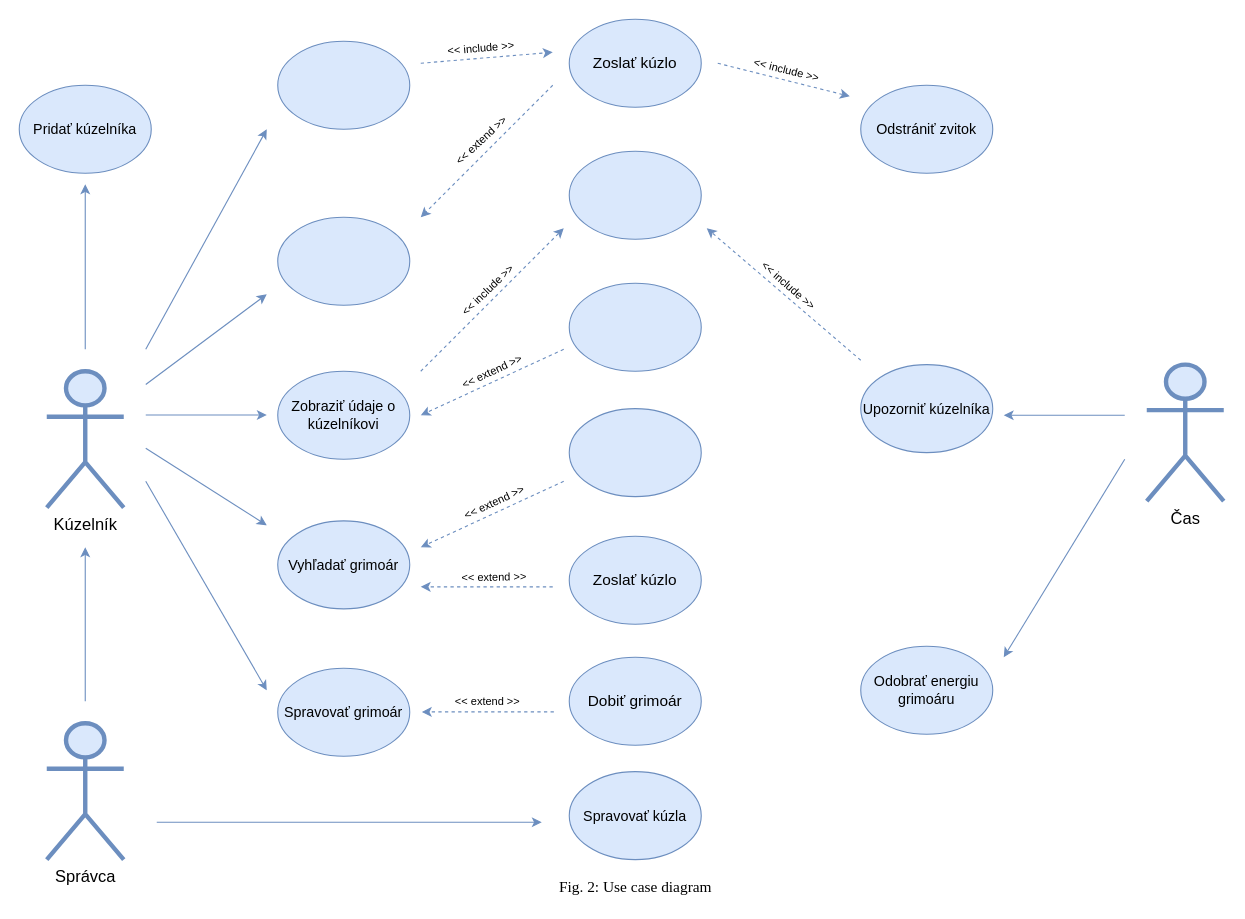
The diagram is 1245 pixels wide and 919 high, and some of its shapes have lost their labels. The shapes that lost their labels are listed below. From the top down, each one's centre as x and y in pixels, then its label:
At (x=343, y=84): "Použiť zvitok".
At (x=634, y=194): "Vyhľadať kúzelníka".
At (x=343, y=260): "Pridať zvitok".
At (x=634, y=326): "Otveriť synergiu".
At (x=634, y=452): "Zobraziť informácie o grimoáre".
